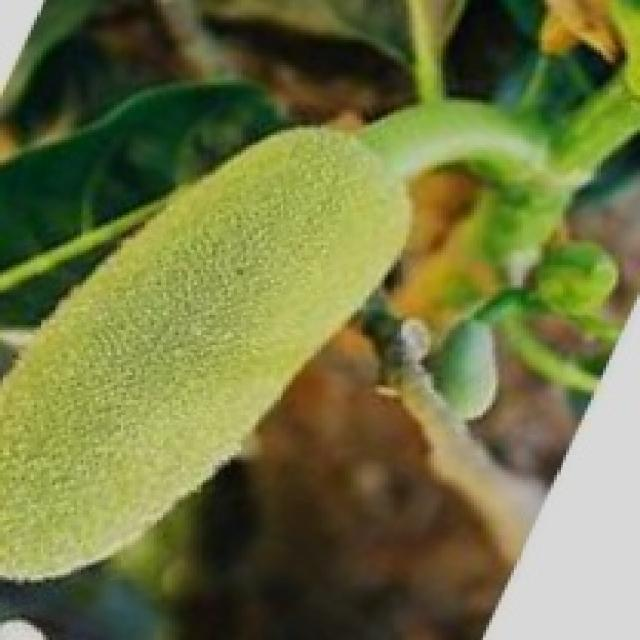Fruit: (28, 90, 440, 368)
